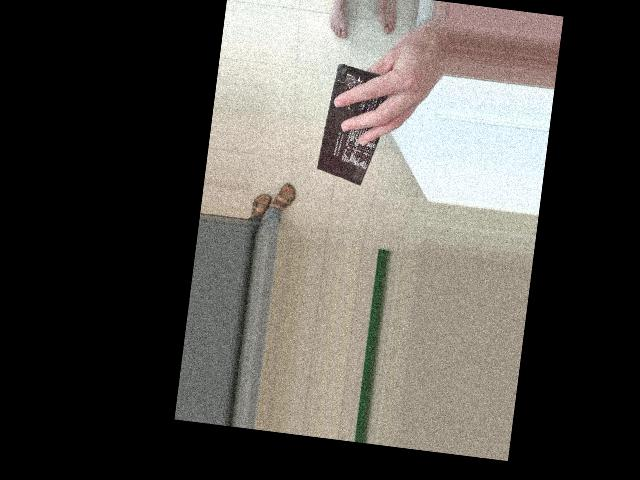chocolate: (244, 97, 381, 189)
